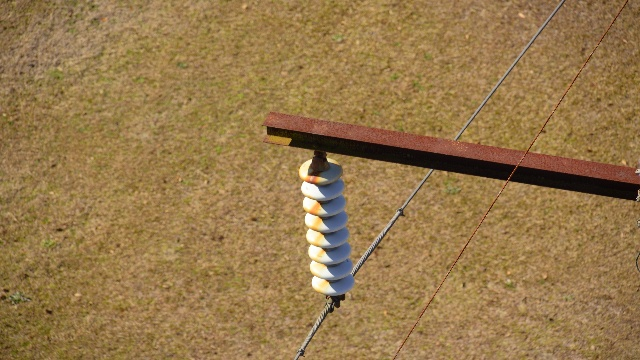insulator_unspecified: (299, 159, 353, 295)
